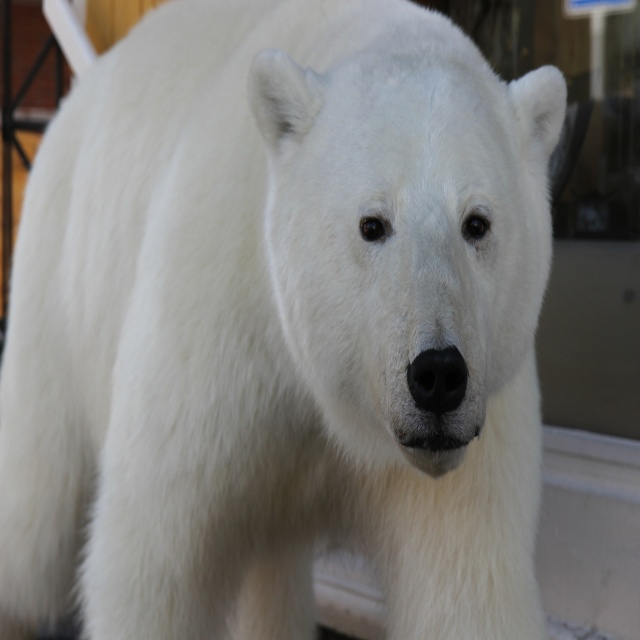Polar bear: (0, 0, 566, 639)
